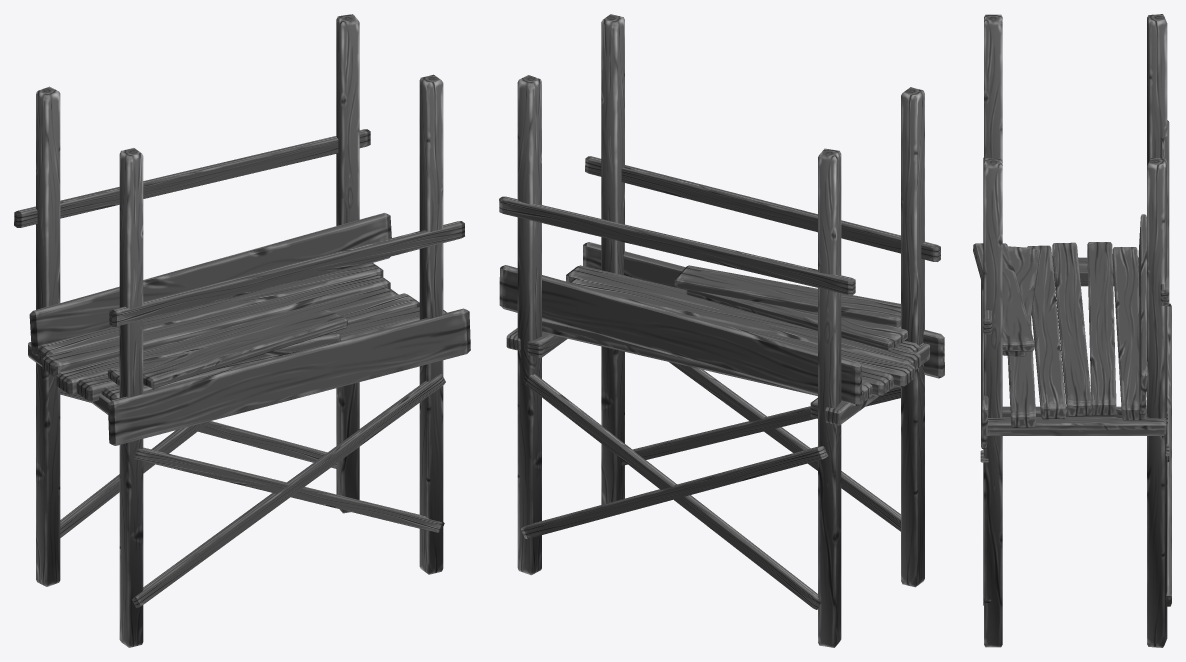
File: SM_Plateforme03_CORRIGE.FBX
3 views of the same model, side by side, from view 1: azimuth 30°, elevation 25°; view 2: azimuth 150°, elevation 25°; view 3: azimuth 270°, elevation 25° (orthographic).
Visible parts, largest first — view 1: Plateforme03; view 2: Plateforme03; view 3: Plateforme03.
Part boxes in pixels (bbox=[...]): Plateforme03: bbox=[14, 14, 470, 647]; Plateforme03: bbox=[499, 14, 944, 647]; Plateforme03: bbox=[973, 14, 1171, 647].
Bounding box in the file's own units: 399 × 506 × 189.
